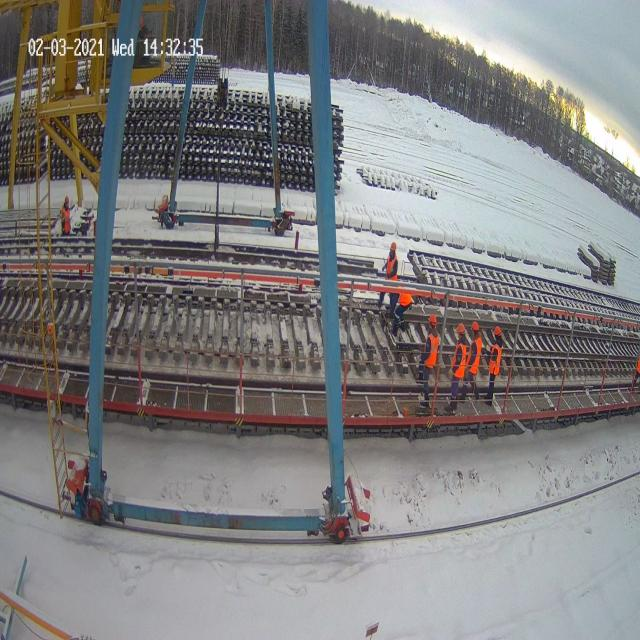Helmet: (428, 314, 436, 325), (457, 323, 465, 334), (471, 321, 479, 331), (494, 326, 501, 335), (390, 242, 396, 251), (64, 196, 69, 204)
Person: (446, 322, 469, 413), (419, 314, 440, 408), (460, 321, 482, 400), (377, 242, 400, 317), (484, 326, 503, 406), (392, 292, 413, 336), (59, 196, 76, 234)
